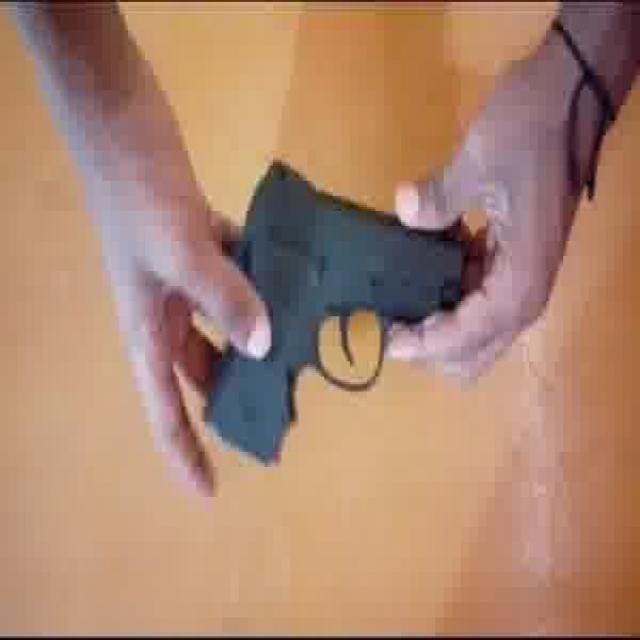weapon: (166, 155, 497, 492)
